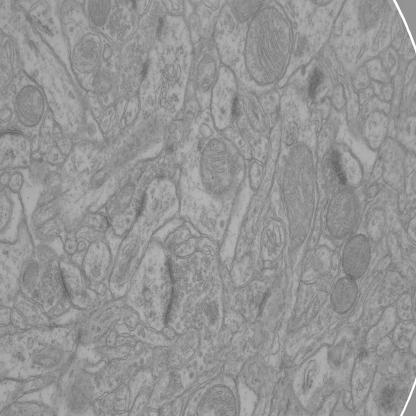mitochondria: (281, 139, 318, 256), (244, 5, 296, 88), (324, 183, 362, 240), (199, 136, 233, 197), (11, 83, 46, 130), (69, 32, 105, 76), (341, 231, 373, 278), (328, 276, 359, 317), (195, 54, 219, 92), (87, 0, 112, 30)
